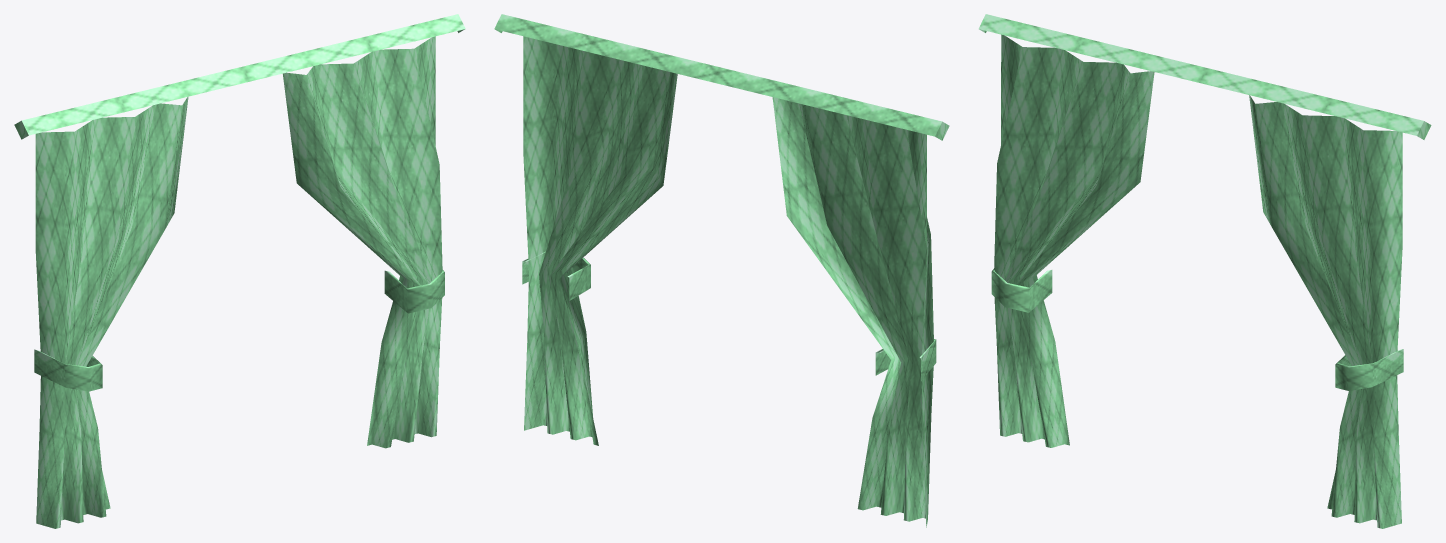
Rendered from Blinds.fbx.
3 renders of one model, left to right at view 1: azimuth 30°, elevation 25°; view 2: azimuth 150°, elevation 25°; view 3: azimuth 330°, elevation 25°, orthographic.
Parts seen in each view (by area): view 1: Blind_L1, Blind_R1, Gardina; view 2: Blind_L1, Blind_R1, Gardina; view 3: Blind_R1, Blind_L1, Gardina.
Boxes of the visible parts, bbox=[...] form: Blind_L1: bbox=[34, 97, 188, 528]; Blind_R1: bbox=[283, 36, 444, 448]; Gardina: bbox=[14, 14, 465, 139]; Blind_L1: bbox=[772, 97, 936, 527]; Blind_R1: bbox=[522, 36, 677, 445]; Gardina: bbox=[494, 14, 949, 140]; Blind_R1: bbox=[1249, 95, 1403, 528]; Blind_L1: bbox=[991, 34, 1154, 447]; Gardina: bbox=[978, 14, 1431, 139].
Bounding box in the file's own units: 293 × 261 × 36.6.
